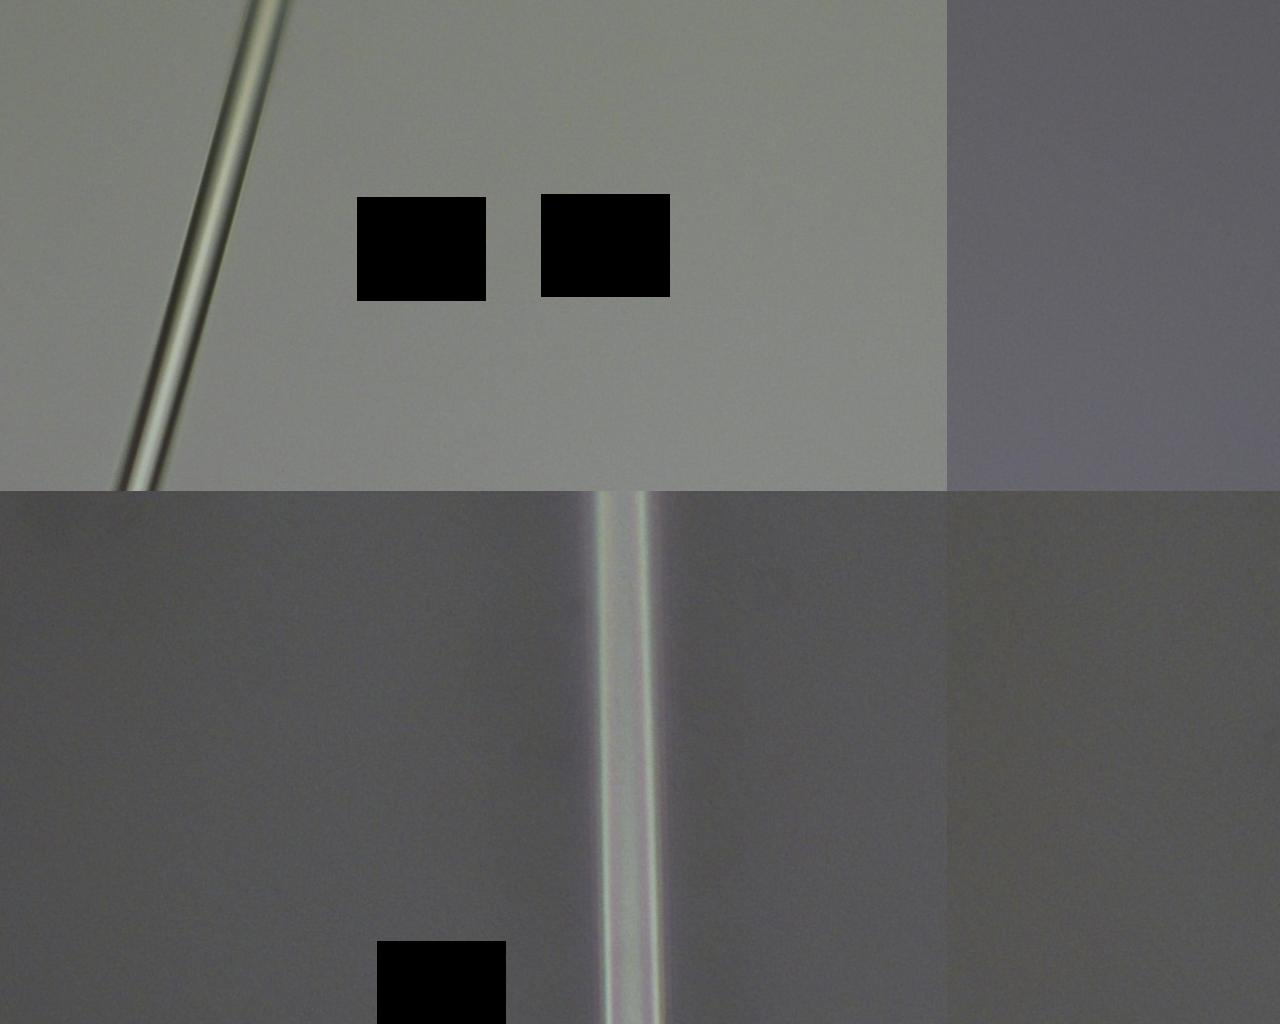fiber: (127, 386, 1151, 506)
